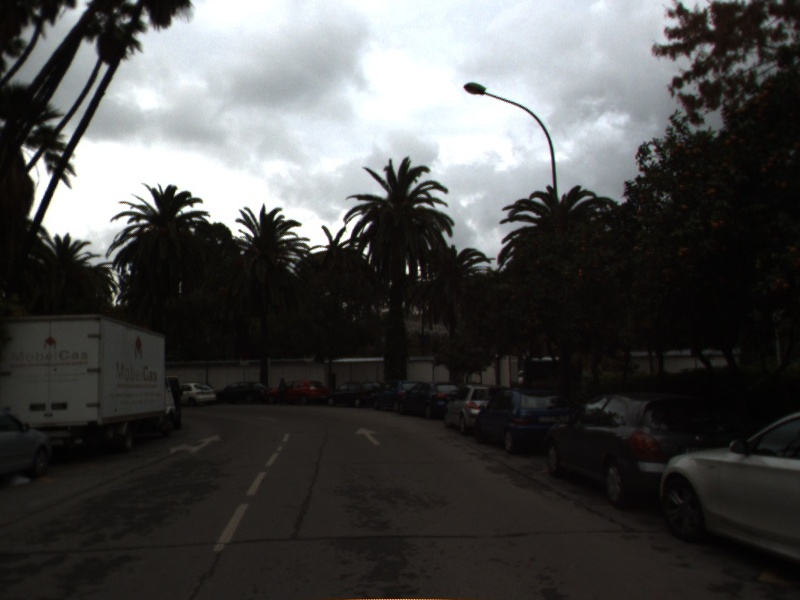STRAIGHT: (353, 425, 383, 447)
STRAIGHT_LEFT: (167, 433, 224, 457)
